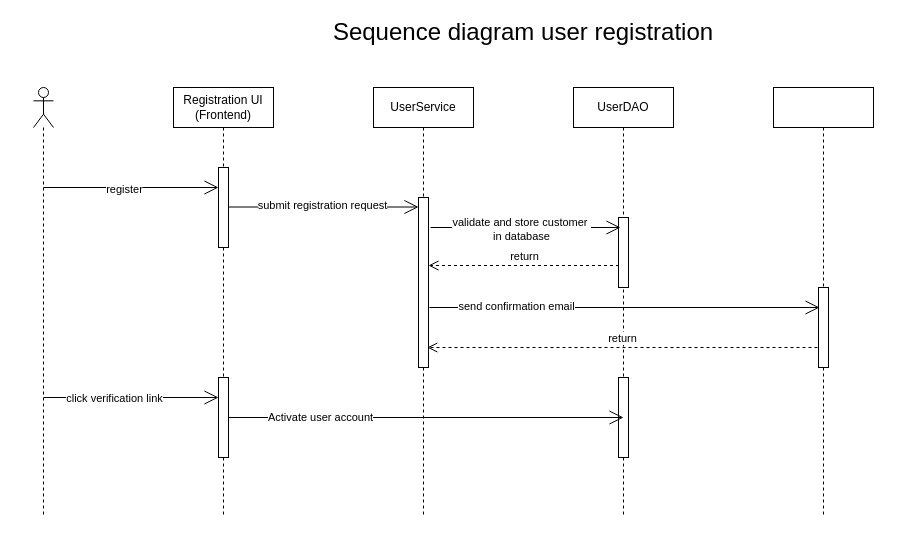
Image size: 911x535. Some labels were removed from this diagram. The box of each missing label's shape, as (x1, y1, x2, y2) in pixels:
Customer: (32, 86, 54, 518)
EmailService: (772, 86, 874, 518)
